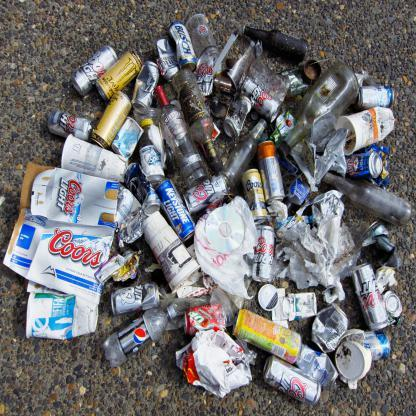Garbage: (96, 68, 400, 382), (194, 209, 354, 393), (74, 43, 279, 185), (223, 45, 348, 210), (42, 172, 174, 326), (84, 52, 198, 180)
